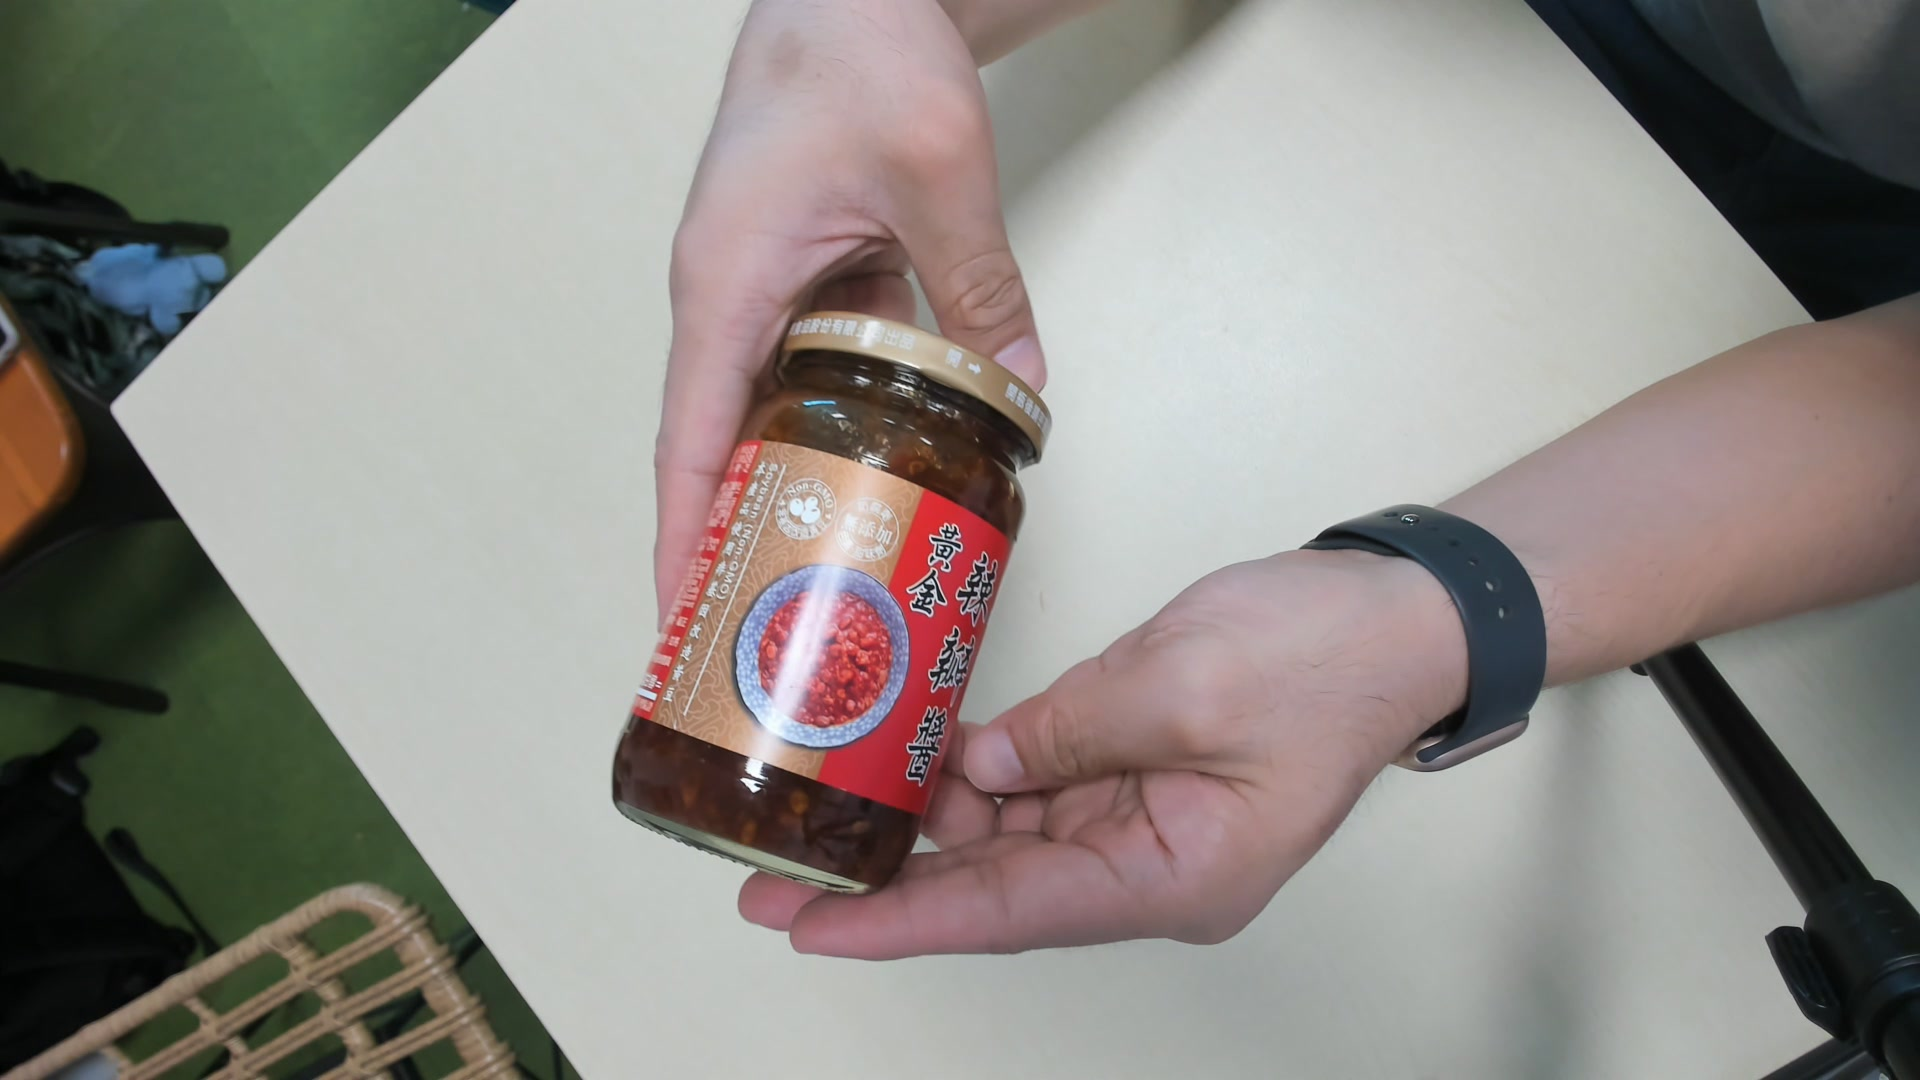OtherSauceDressing_300-399g_NonHalal_NonHealthy: (605, 306, 1054, 889)
